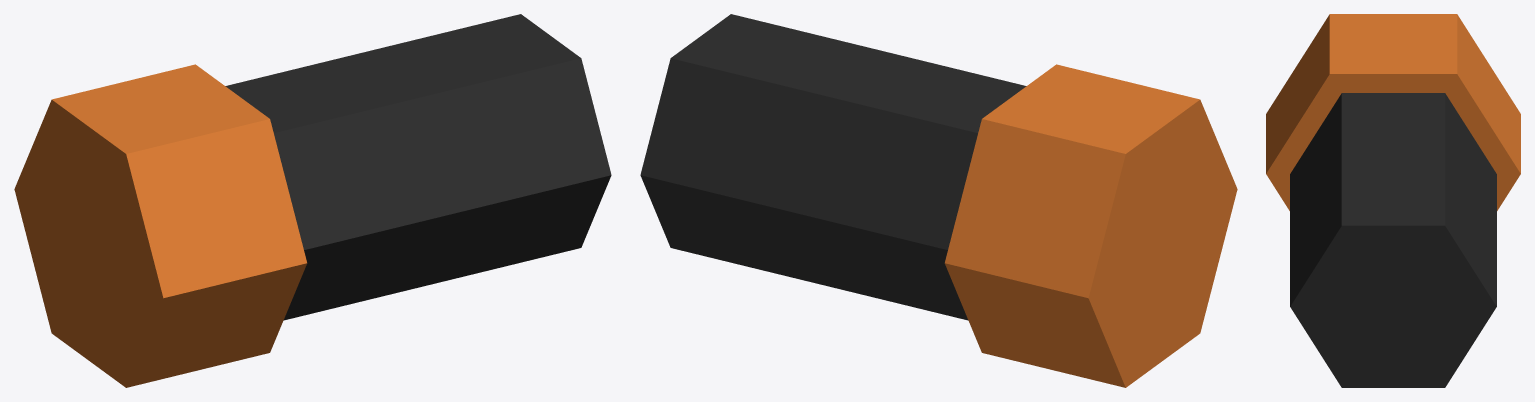
Rendered from battery.fbx.
3 renders of one model, left to right at view 1: azimuth 30°, elevation 25°; view 2: azimuth 150°, elevation 25°; view 3: azimuth 270°, elevation 25°, orthographic. The views are drawn at different scales.
Parts seen in each view (by area): view 1: battery; view 2: battery; view 3: battery.
Boxes of the visible parts, x1,y1,x2,y2 form: battery: (14, 14, 611, 387); battery: (640, 14, 1237, 387); battery: (1266, 14, 1520, 387).
Size of the model in its own units: 0.212 by 0.1025 by 0.1184.
